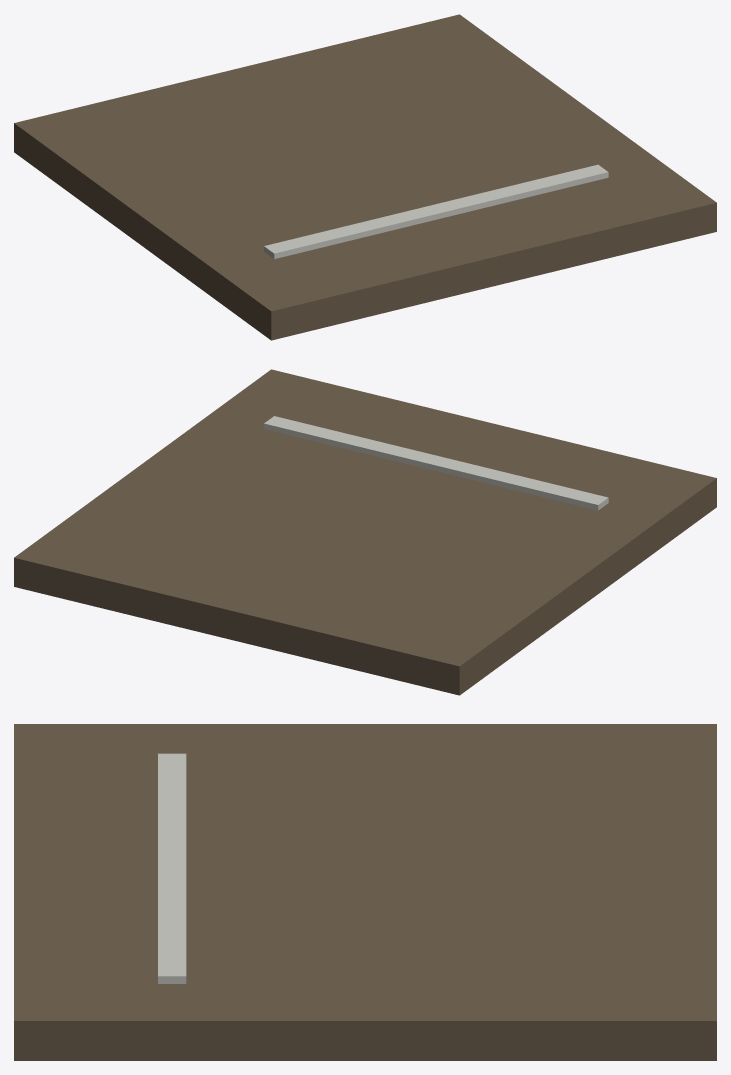
File: terrain-path-end.lod0.glb
The picture shows the model from 3 angles, top to bottom: view 1: azimuth 30°, elevation 25°; view 2: azimuth 150°, elevation 25°; view 3: azimuth 270°, elevation 25°; orthographic projection. The views are drawn at different scales.
Parts seen in each view (by area): view 1: terrain-path-end__body; view 2: terrain-path-end__body; view 3: terrain-path-end__body.
Boxes of the visible parts, <box> form: terrain-path-end__body: <box>14,14,716,340</box>; terrain-path-end__body: <box>14,369,716,695</box>; terrain-path-end__body: <box>14,724,716,1060</box>.
Size of the model in its own units: 2 by 0.149 by 2.
